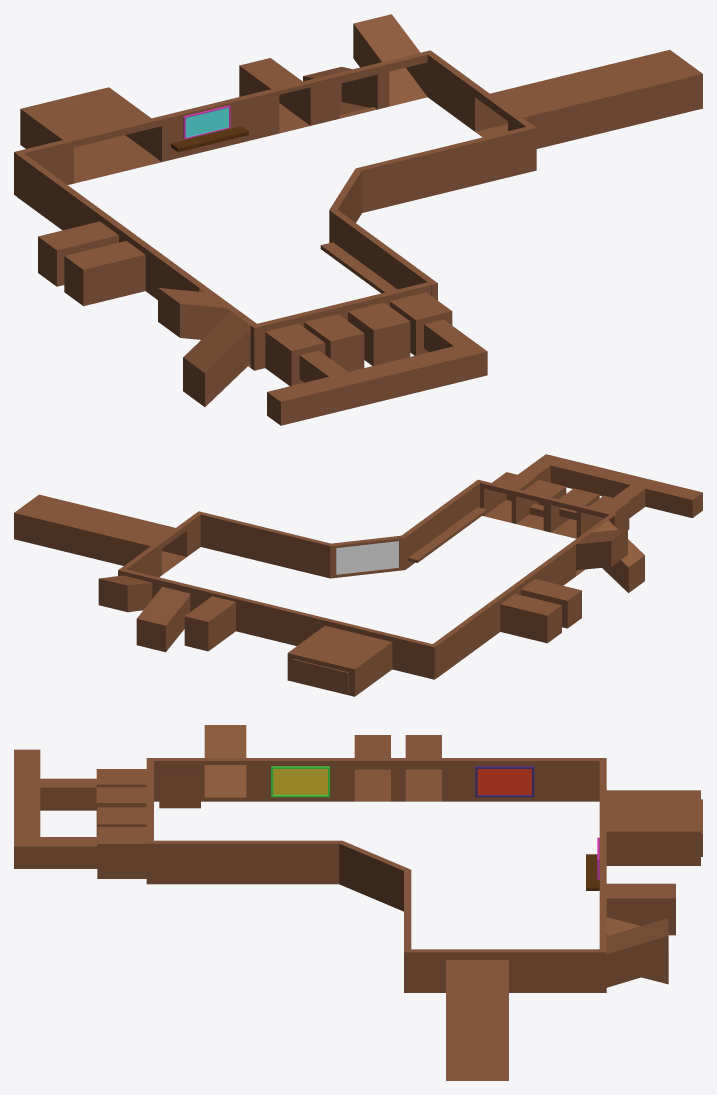
Rendered from floor2.fbx.
The picture shows the model from 3 angles, top to bottom: view 1: azimuth 30°, elevation 25°; view 2: azimuth 150°, elevation 25°; view 3: azimuth 270°, elevation 25°; orthographic projection. The views are drawn at different scales.
Parts seen in each view (by area): view 1: Cube.013, Cube.007, Cube.005, Cube.001, Cube.004; view 2: Cube.013, Cube.007, Cube.001; view 3: Cube.013, Cube.007, Cube.003, Cube.002.
Part boxes in pixels (bbox=[...]): Cube.013: bbox=[14, 14, 702, 406]; Cube.007: bbox=[267, 324, 467, 425]; Cube.005: bbox=[183, 105, 230, 139]; Cube.001: bbox=[320, 242, 397, 293]; Cube.004: bbox=[171, 126, 248, 152]; Cube.013: bbox=[14, 454, 644, 696]; Cube.007: bbox=[533, 458, 702, 518]; Cube.001: bbox=[408, 507, 486, 562]; Cube.013: bbox=[14, 725, 702, 1080]; Cube.007: bbox=[14, 749, 96, 836]; Cube.003: bbox=[475, 766, 534, 797]; Cube.002: bbox=[271, 766, 329, 797].
Bounding box in the file's own units: 6185 × 777 × 5788.
